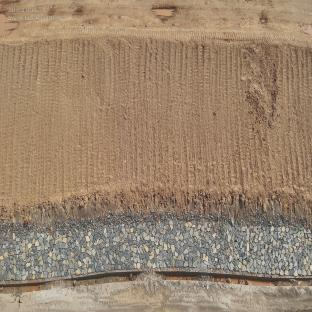rock_toe: (0, 220, 312, 281)
slope_drain: (0, 269, 312, 295)
